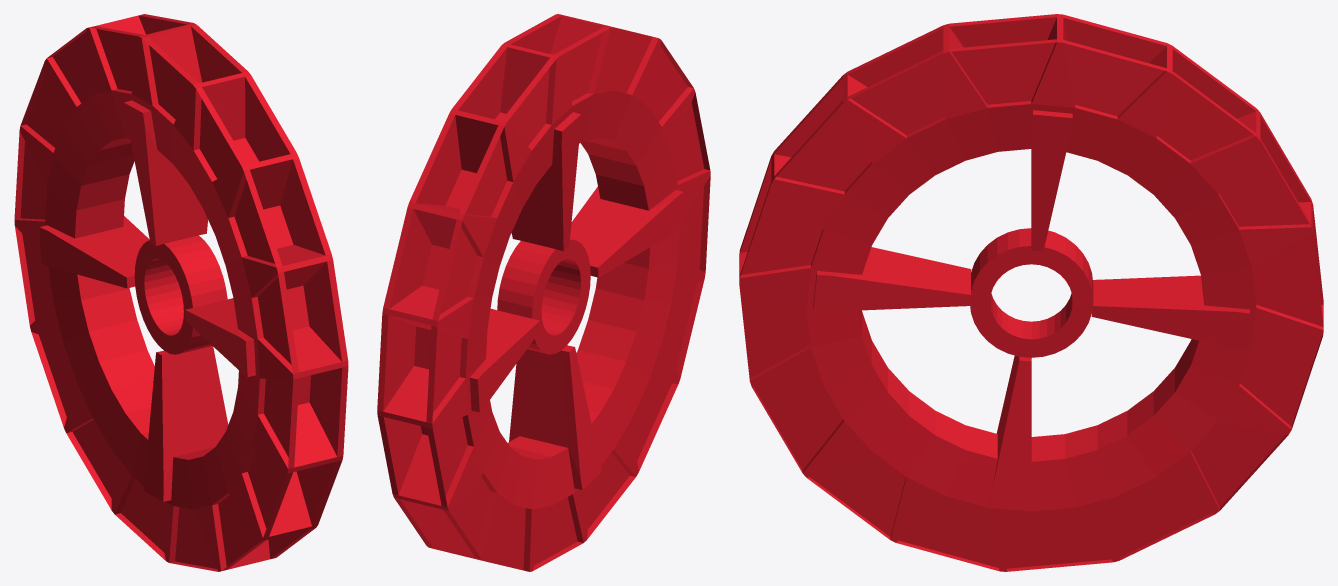
File: water_mill.fbx
3 renders of one model, left to right at view 1: azimuth 30°, elevation 25°; view 2: azimuth 150°, elevation 25°; view 3: azimuth 270°, elevation 25°, orthographic. The views are drawn at different scales.
Visible parts, largest first — view 1: Circle.002; view 2: Circle.002; view 3: Circle.002.
Boxes of the visible parts, x1=… form: Circle.002: x1=14, y1=14, x2=348, y2=571; Circle.002: x1=377, y1=14, x2=710, y2=571; Circle.002: x1=739, y1=14, x2=1323, y2=571.
Bounding box in the file's own units: 2.34 × 14.91 × 14.91.
